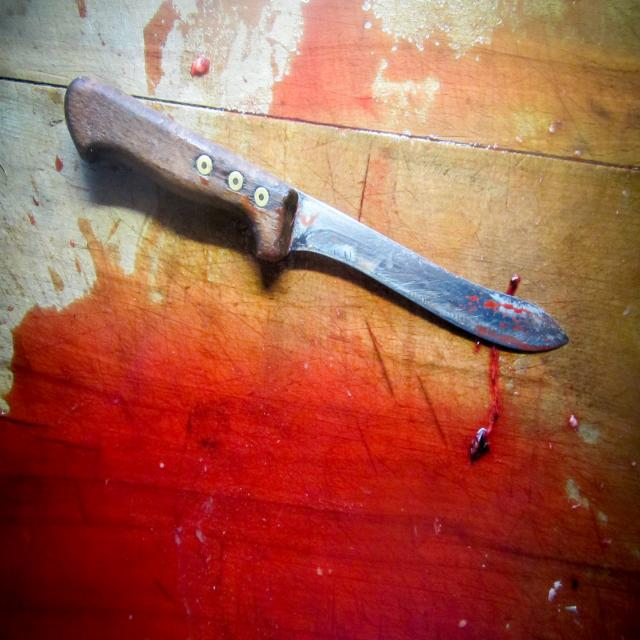knife: (60, 68, 586, 376)
